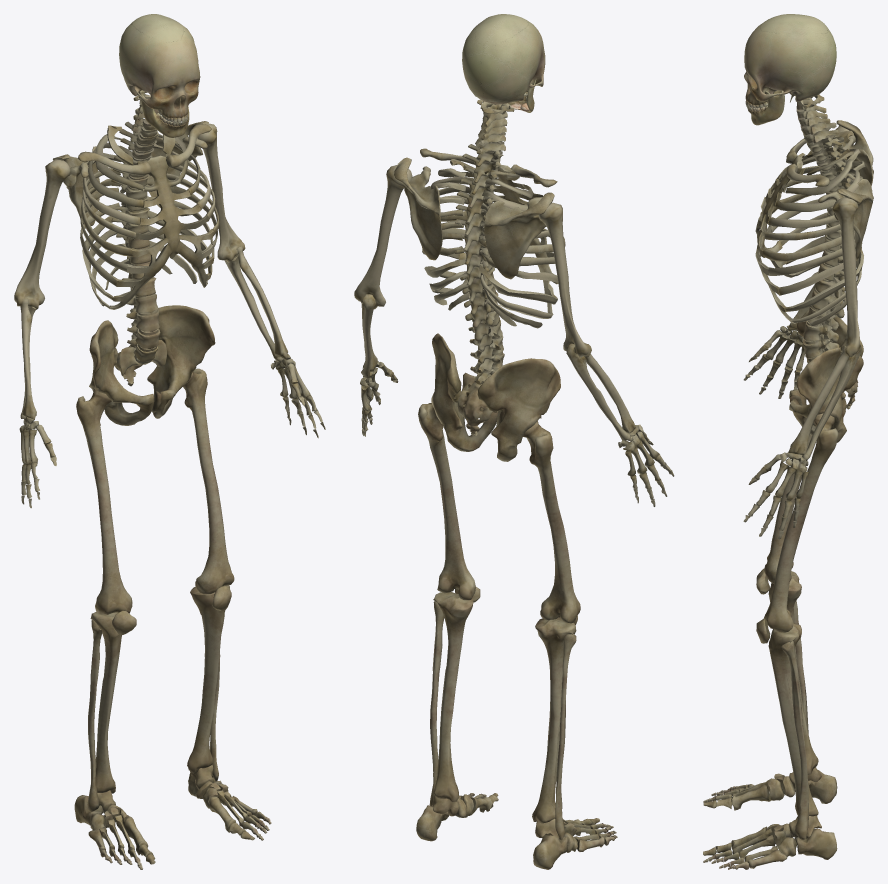
The model's file is skeleton.fbx.
3 renders of one model, left to right at view 1: azimuth 30°, elevation 25°; view 2: azimuth 150°, elevation 25°; view 3: azimuth 270°, elevation 25°, orthographic. The views are drawn at different scales.
Parts seen in each view (by area): view 1: Skeletal_Ribs, polySurface215, polySurface467, polySurface233, polySurface134, polySurface232, polySurface86, polySurface135, polySurface87, polySurface169, polySurface168, polySurface235 (+9 smaller); view 2: Skeletal_Ribs, polySurface215, polySurface135, polySurface233, polySurface232, polySurface86, polySurface91, polySurface87, polySurface134, polySurface90, polySurface169, polySurface168 (+9 smaller); view 3: Skeletal_Ribs, polySurface215, polySurface232, polySurface86, polySurface134, polySurface168, polySurface467, polySurface234, polySurface90, polySurface233, polySurface132, polySurface87 (+12 smaller).
Boxes of the visible parts, x1,y1,x2,y2 form: Skeletal_Ribs: (80,125,219,308); polySurface215: (119,14,200,118); polySurface467: (109,153,214,309); polySurface233: (76,389,132,614); polySurface134: (147,305,215,418); polySurface232: (183,368,234,594); polySurface86: (187,585,229,773); polySurface135: (89,320,154,425); polySurface87: (90,611,129,793); polySurface169: (14,159,70,309); polySurface168: (197,123,245,262); polySurface235: (87,620,102,811); Skeletal_Ribs: (422,159,565,328); polySurface215: (462,14,545,104); polySurface135: (477,358,560,461); polySurface233: (523,421,580,623); polySurface232: (418,403,475,600); polySurface86: (433,592,473,801); polySurface91: (484,192,554,279); polySurface87: (532,617,576,823); polySurface134: (431,333,497,451); polySurface90: (394,157,442,260); polySurface169: (538,202,591,357); polySurface168: (354,165,412,309); Skeletal_Ribs: (763,130,865,326); polySurface215: (744,14,836,105); polySurface232: (764,413,838,632); polySurface86: (768,623,818,816); polySurface134: (789,347,863,442); polySurface168: (832,197,859,356); polySurface467: (755,153,805,323); polySurface234: (781,641,808,839); polySurface90: (818,178,873,260); polySurface233: (764,425,815,583); polySurface132: (788,345,849,454); polySurface87: (768,571,818,774).
Size of the model in its own units: 69 by 183 by 34.83.
